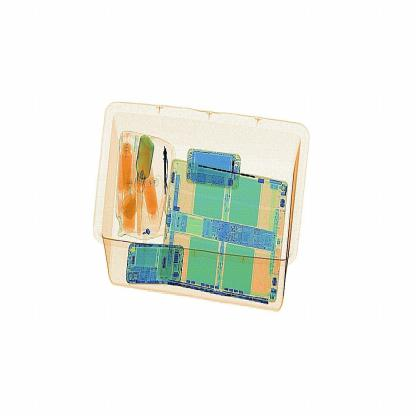knife: (160, 142, 176, 204)
